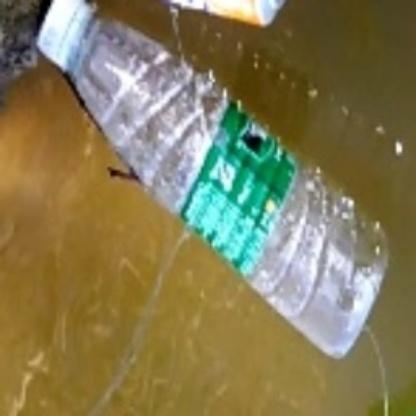can: (168, 2, 297, 27)
plastic bottle: (35, 1, 391, 361)
